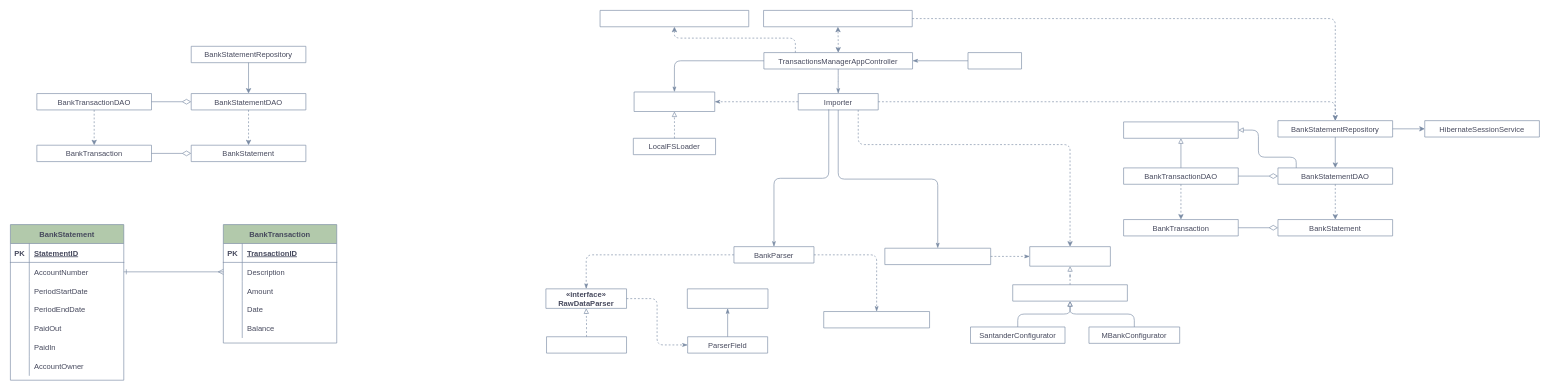
The diagram is 1550 pixels wide and 391 high, and some of its shapes have lost their labels. Each missing label, with the box of its shape:
AddStatementViewController: (599, 10, 749, 27)
AppMain: (967, 52, 1022, 69)
BankConfigurationFactory: (884, 248, 991, 265)
BankStatementBuilder: (823, 311, 930, 328)
CSVRawDataParser: (546, 336, 627, 353)
TransactionsManagerViewController: (763, 10, 912, 27)
{abstract} AbstractBankConfigurator: (1012, 284, 1127, 301)
{abstract} AbstractDAO: (1123, 121, 1238, 138)
«interface» BankConfigurator: (1029, 246, 1110, 266)
«interface» Converter: (687, 288, 768, 308)
«interface» Loader: (633, 91, 715, 112)
